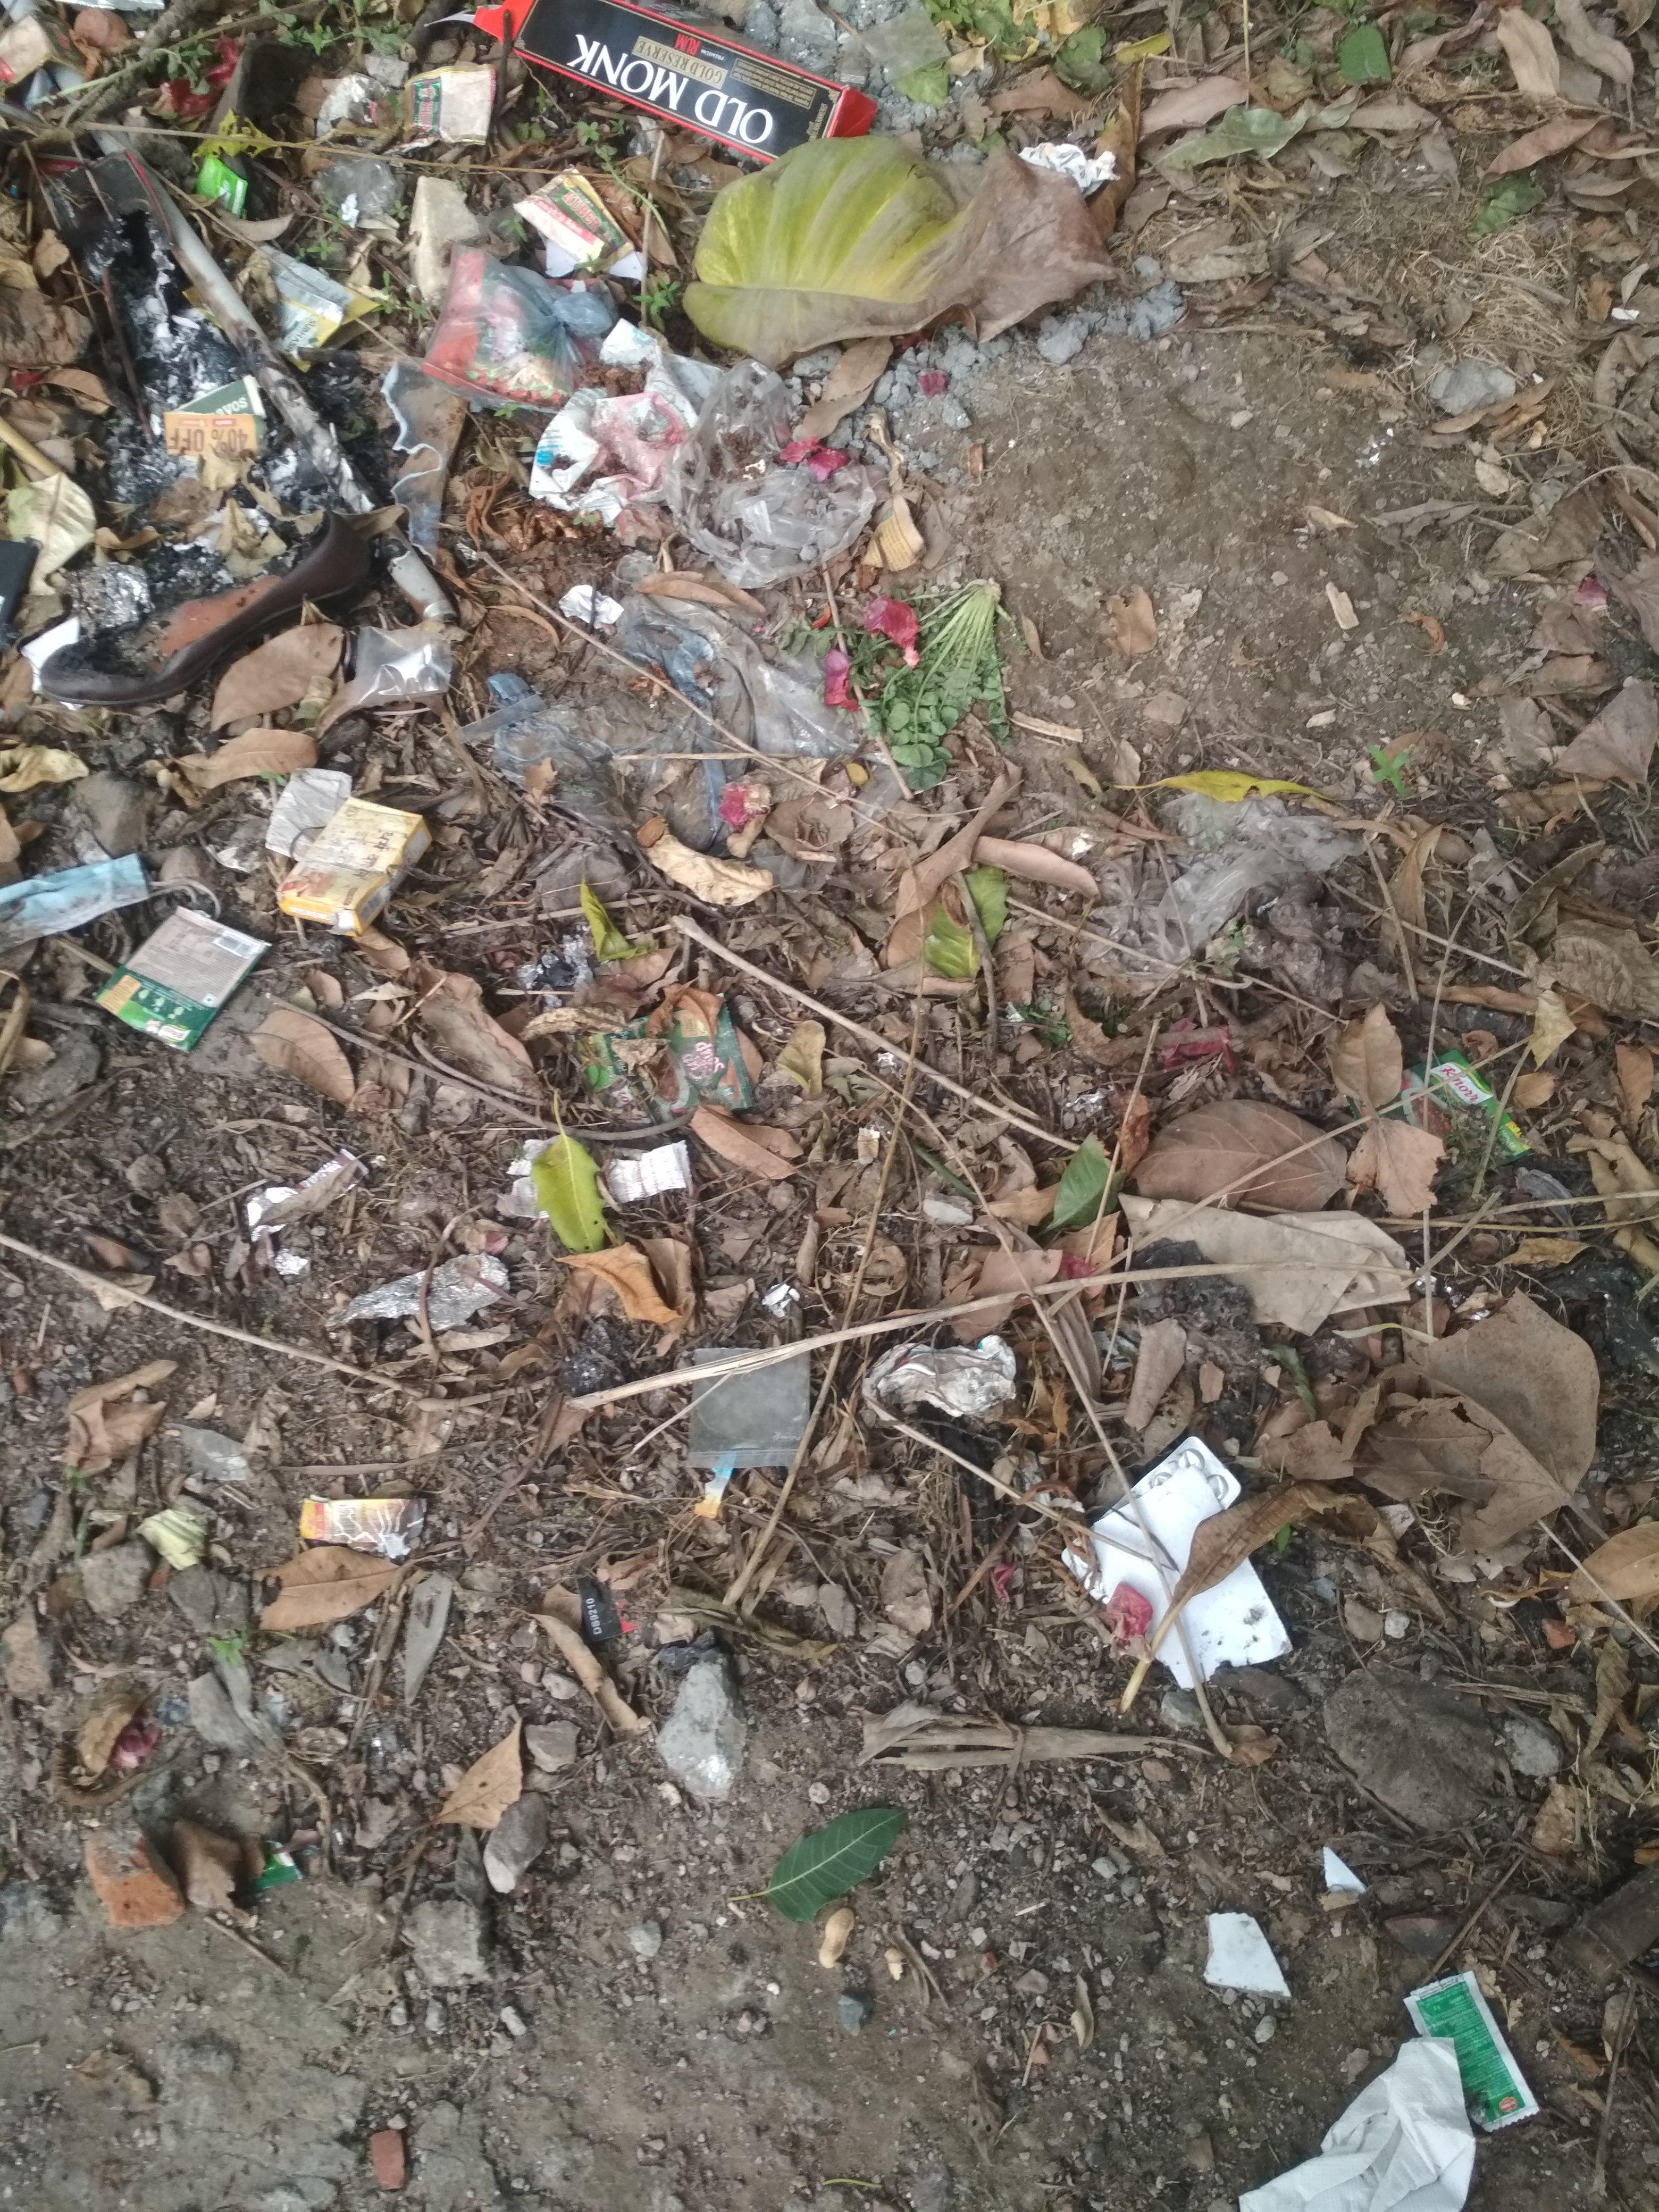trash: (0, 5, 1065, 1068)
